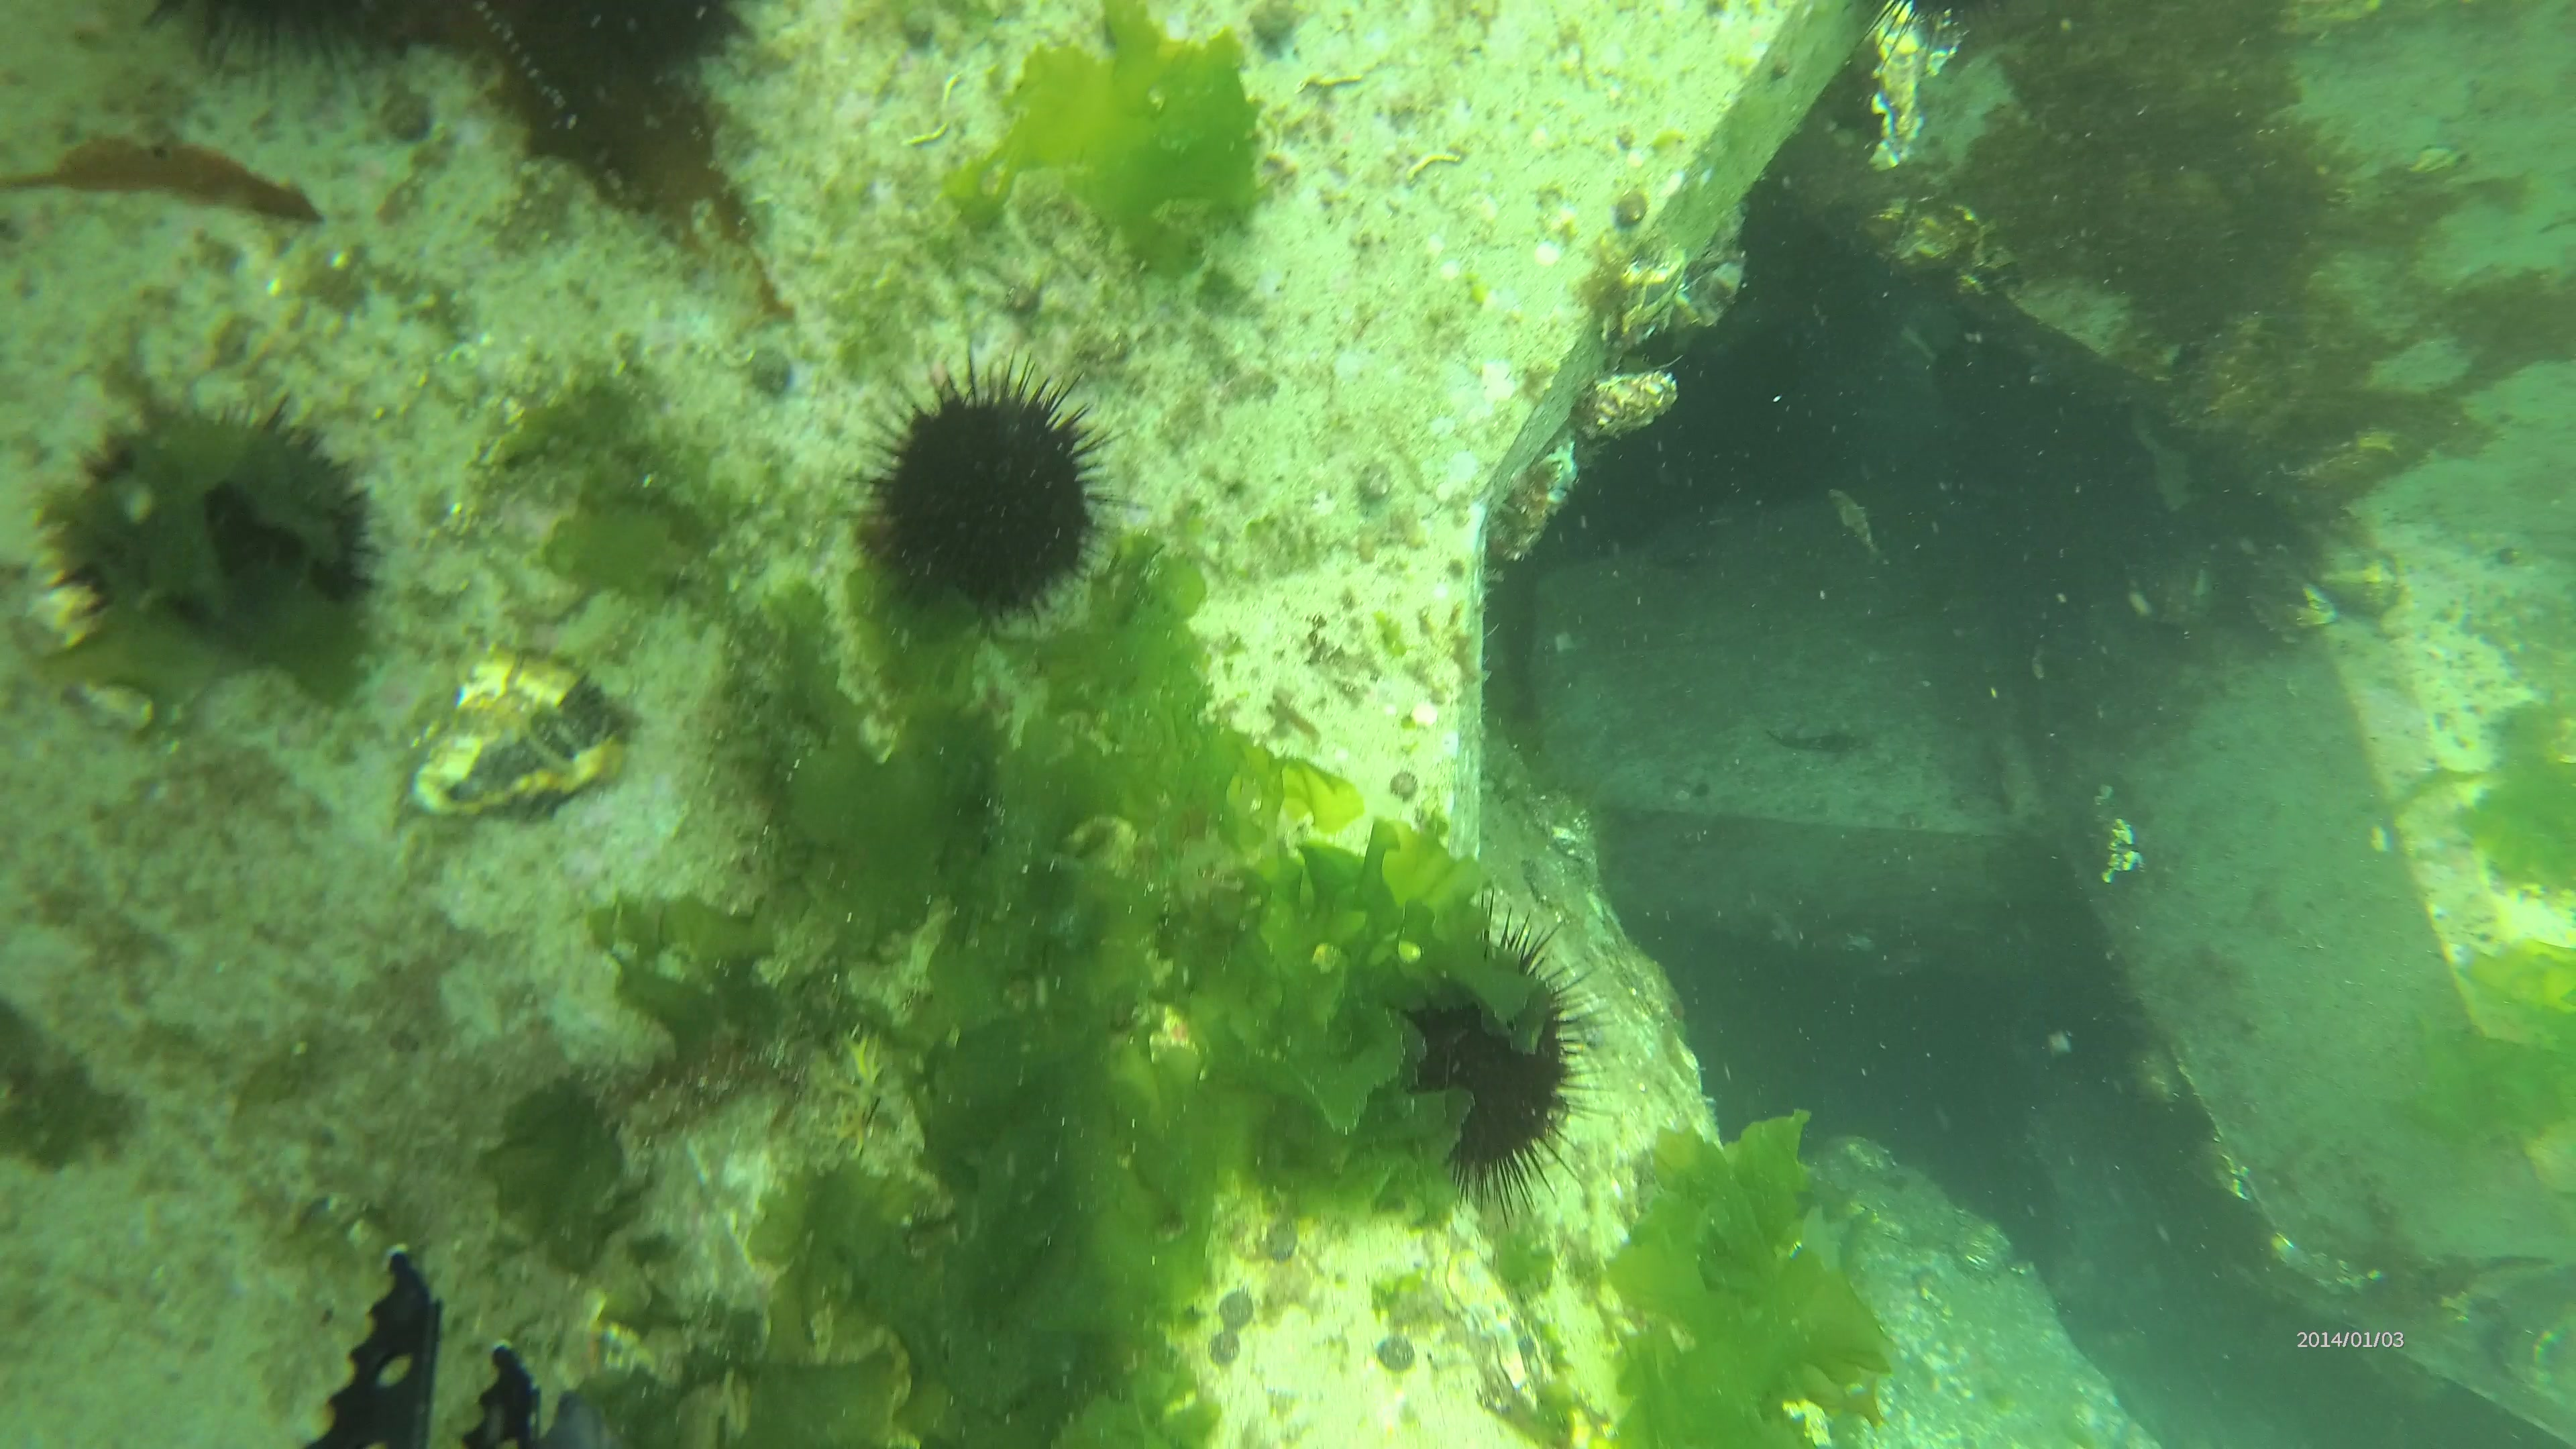echinus: (34, 389, 384, 711), (1302, 879, 1610, 1237), (839, 327, 1131, 642), (120, 0, 425, 88)
